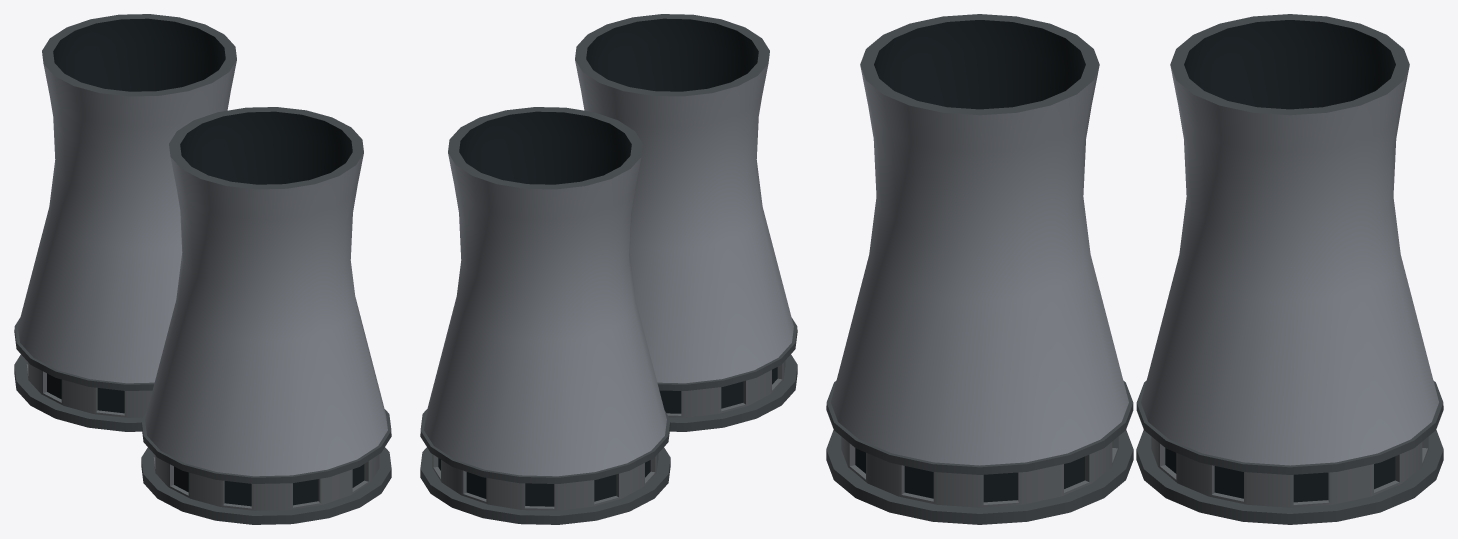
File: SM_Buildings_Factory_07.fbx
The picture shows the model from 3 angles, left to right: view 1: azimuth 30°, elevation 25°; view 2: azimuth 150°, elevation 25°; view 3: azimuth 270°, elevation 25°; orthographic projection. The views are drawn at different scales.
Parts seen in each view (by area): view 1: SM_Buildings_Factory_07; view 2: SM_Buildings_Factory_07; view 3: SM_Buildings_Factory_07.
Boxes of the visible parts, left/top/right/bottom form: SM_Buildings_Factory_07: left=14, top=14, right=391, bottom=524; SM_Buildings_Factory_07: left=420, top=14, right=797, bottom=524; SM_Buildings_Factory_07: left=826, top=14, right=1443, bottom=524.
Bounding box in the file's own units: 7.41 × 10.52 × 14.89.
